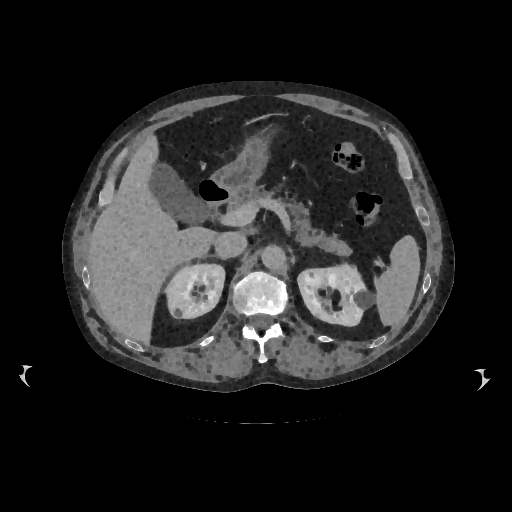Lesion: (347, 286, 378, 312)
